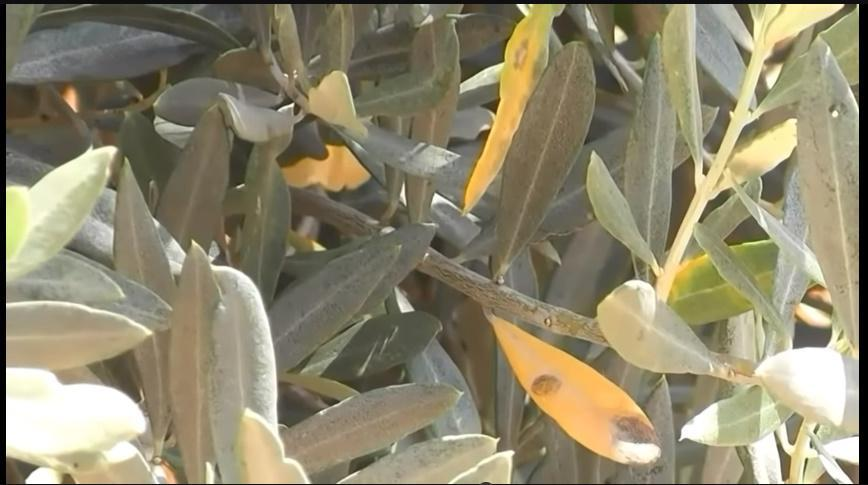OlivePeacockSpot: (492, 318, 662, 471), (462, 8, 554, 214)
